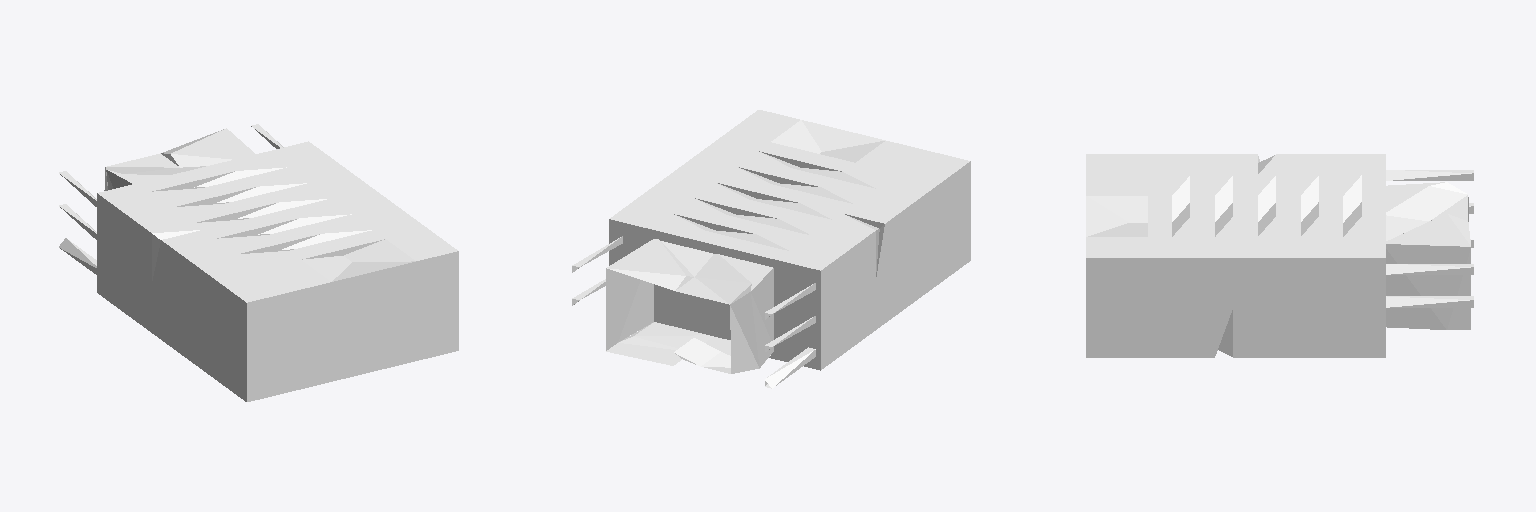
Rendered from building7LOD.obj.
3 renders of one model, left to right at view 1: azimuth 30°, elevation 25°; view 2: azimuth 150°, elevation 25°; view 3: azimuth 270°, elevation 25°, orthographic.
Parts seen in each view (by area): view 1: building7.001_LOD1_building7.003_LOD1; view 2: building7.001_LOD1_building7.003_LOD1; view 3: building7.001_LOD1_building7.003_LOD1.
Boxes of the visible parts, <box> form: building7.001_LOD1_building7.003_LOD1: <box>59,124,458,401</box>; building7.001_LOD1_building7.003_LOD1: <box>572,110,970,388</box>; building7.001_LOD1_building7.003_LOD1: <box>1086,154,1473,357</box>.
Size of the model in its own units: 17.59 by 7.92 by 27.83.